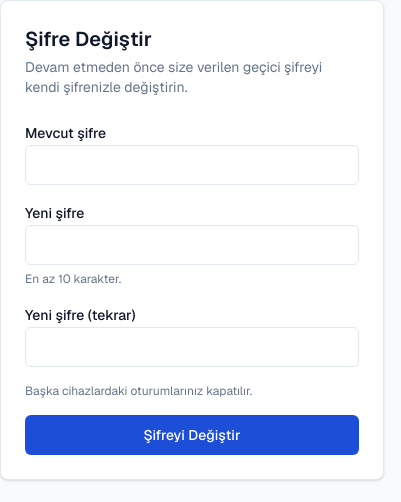
Test case: ChangePasswordForm › does not send a short new password
Type "Temp-Password-1" into the password field labelled "Mevcut şifre" at (192,165), box [25,145,359,185]
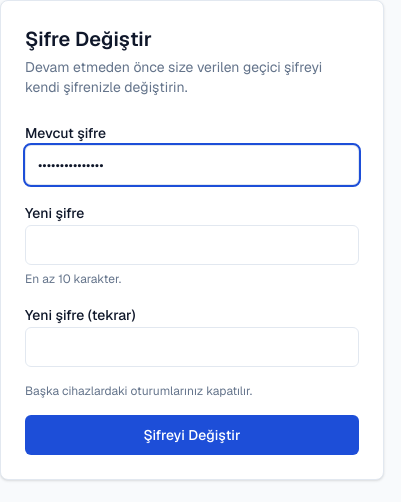
Type "short" into the password field labelled "Yeni şifre" at (192,245), box [25,225,359,265]
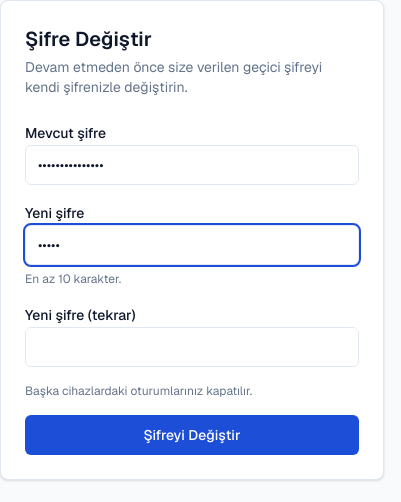
Type "short" into the password field labelled "Yeni şifre (tekrar)" at (192,347), box [25,327,359,367]
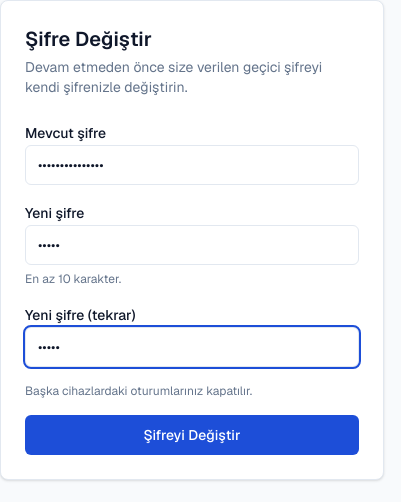
Click the button "Şifreyi Değiştir" at (192,435), box [25,415,359,455]
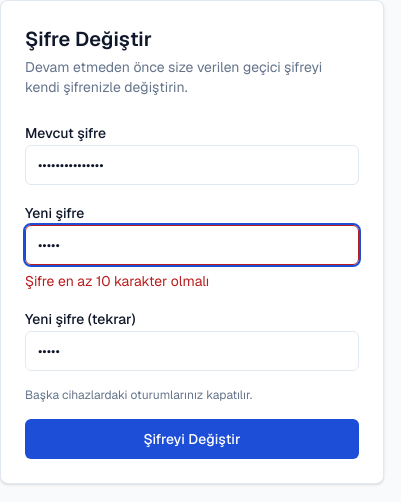
Result: the text "Şifre en az 10 karakter olmalı" is shown at [25,272,209,290]
